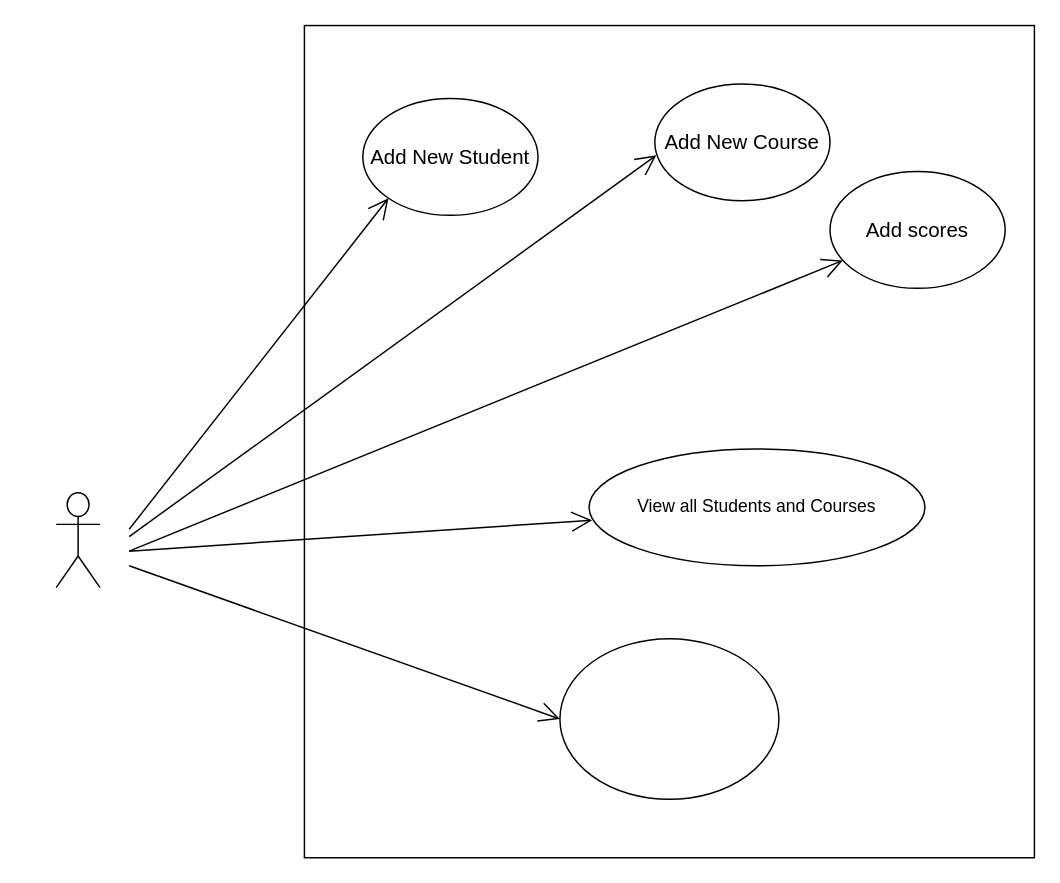
This 1060x883 diagram has some shape labels left out. Each missing label, with the centre of its shape:
"Calculate Statistics and their courses" goes at pixel 668 718.
"Record Office" goes at pixel 77 539.
